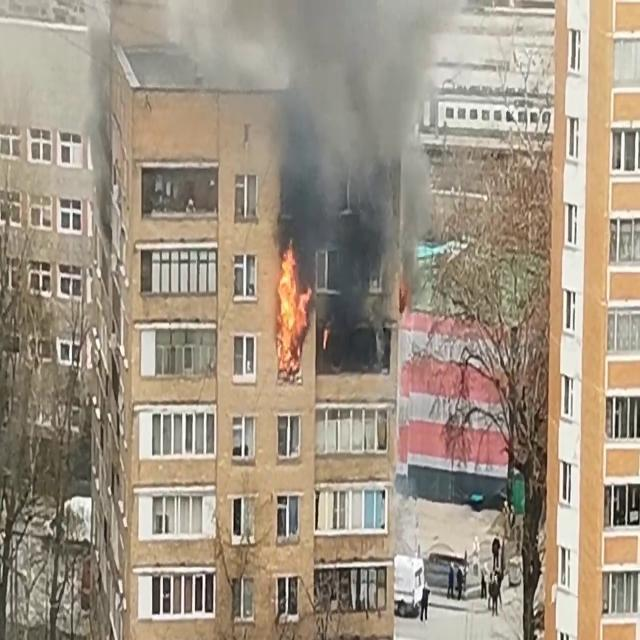Fire: (274, 238, 308, 372)
Smoke: (265, 0, 441, 340), (84, 10, 116, 262)
